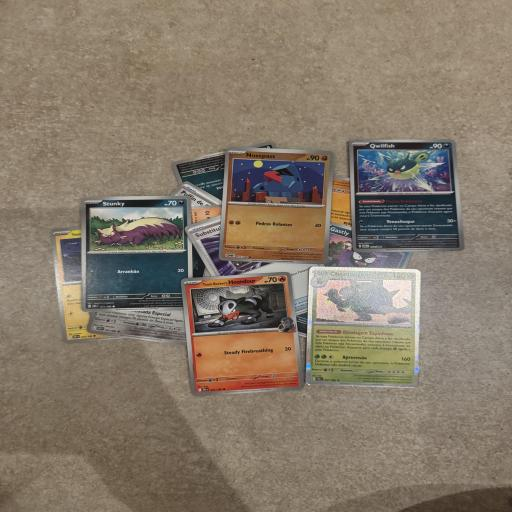card: (180, 268, 305, 400), (219, 144, 335, 268), (305, 266, 422, 388), (349, 136, 466, 254), (82, 196, 190, 312)
